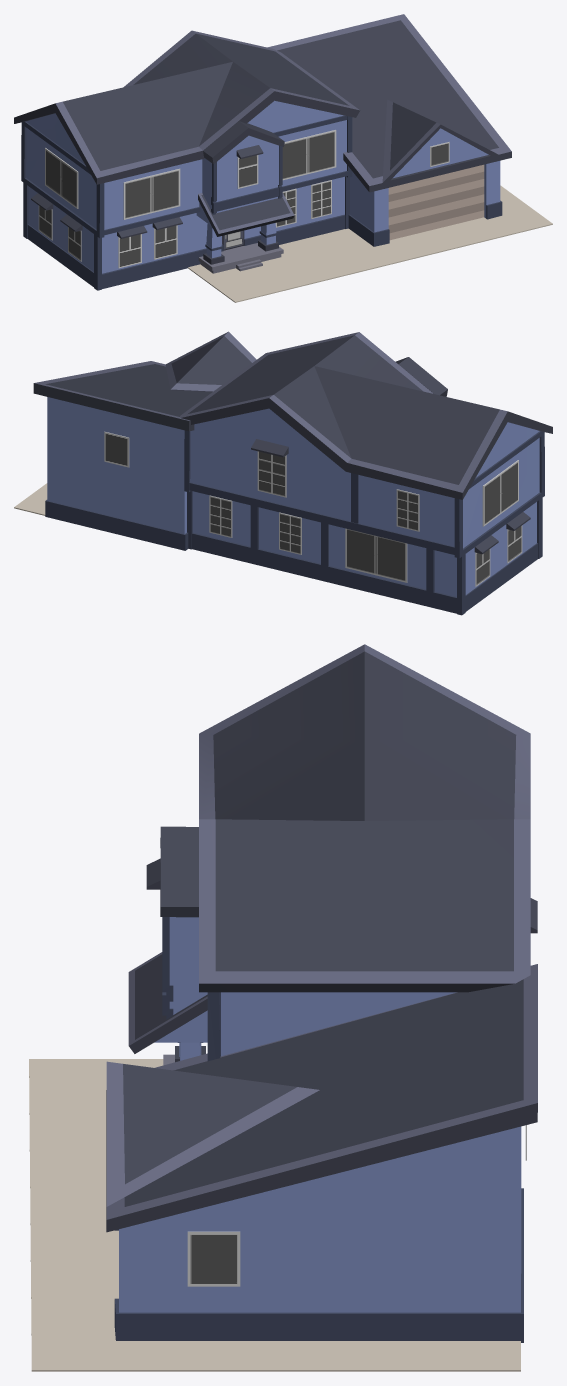
The model's file is house02_color01.fbx.
The picture shows the model from 3 angles, top to bottom: view 1: azimuth 30°, elevation 25°; view 2: azimuth 150°, elevation 25°; view 3: azimuth 270°, elevation 25°; orthographic projection. The views are drawn at different scales.
Parts seen in each view (by area): view 1: Cube.014, Cube.314; view 2: Cube.014, Cube.314; view 3: Cube.014, Cube.314.
Boxes of the visible parts, x1,y1,x2,y2 form: Cube.014: [14, 14, 511, 290]; Cube.314: [188, 185, 552, 302]; Cube.014: [33, 331, 552, 615]; Cube.314: [14, 483, 47, 515]; Cube.014: [106, 644, 537, 1342]; Cube.314: [29, 1059, 520, 1371].
Size of the model in its own units: 2465 by 917 by 1310.
